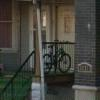Bicycle: (42, 36, 73, 77)
